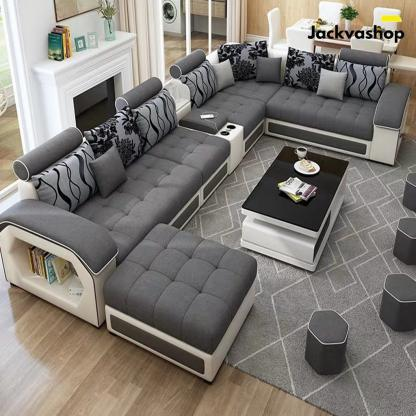bantal: (95, 150, 130, 196), (317, 68, 343, 100), (255, 55, 282, 84)
buku: (279, 176, 318, 204), (47, 26, 73, 61)
gelas: (293, 146, 308, 158)
meja: (243, 147, 348, 273)
sova: (1, 48, 397, 322)
tanaman: (341, 7, 354, 31)
